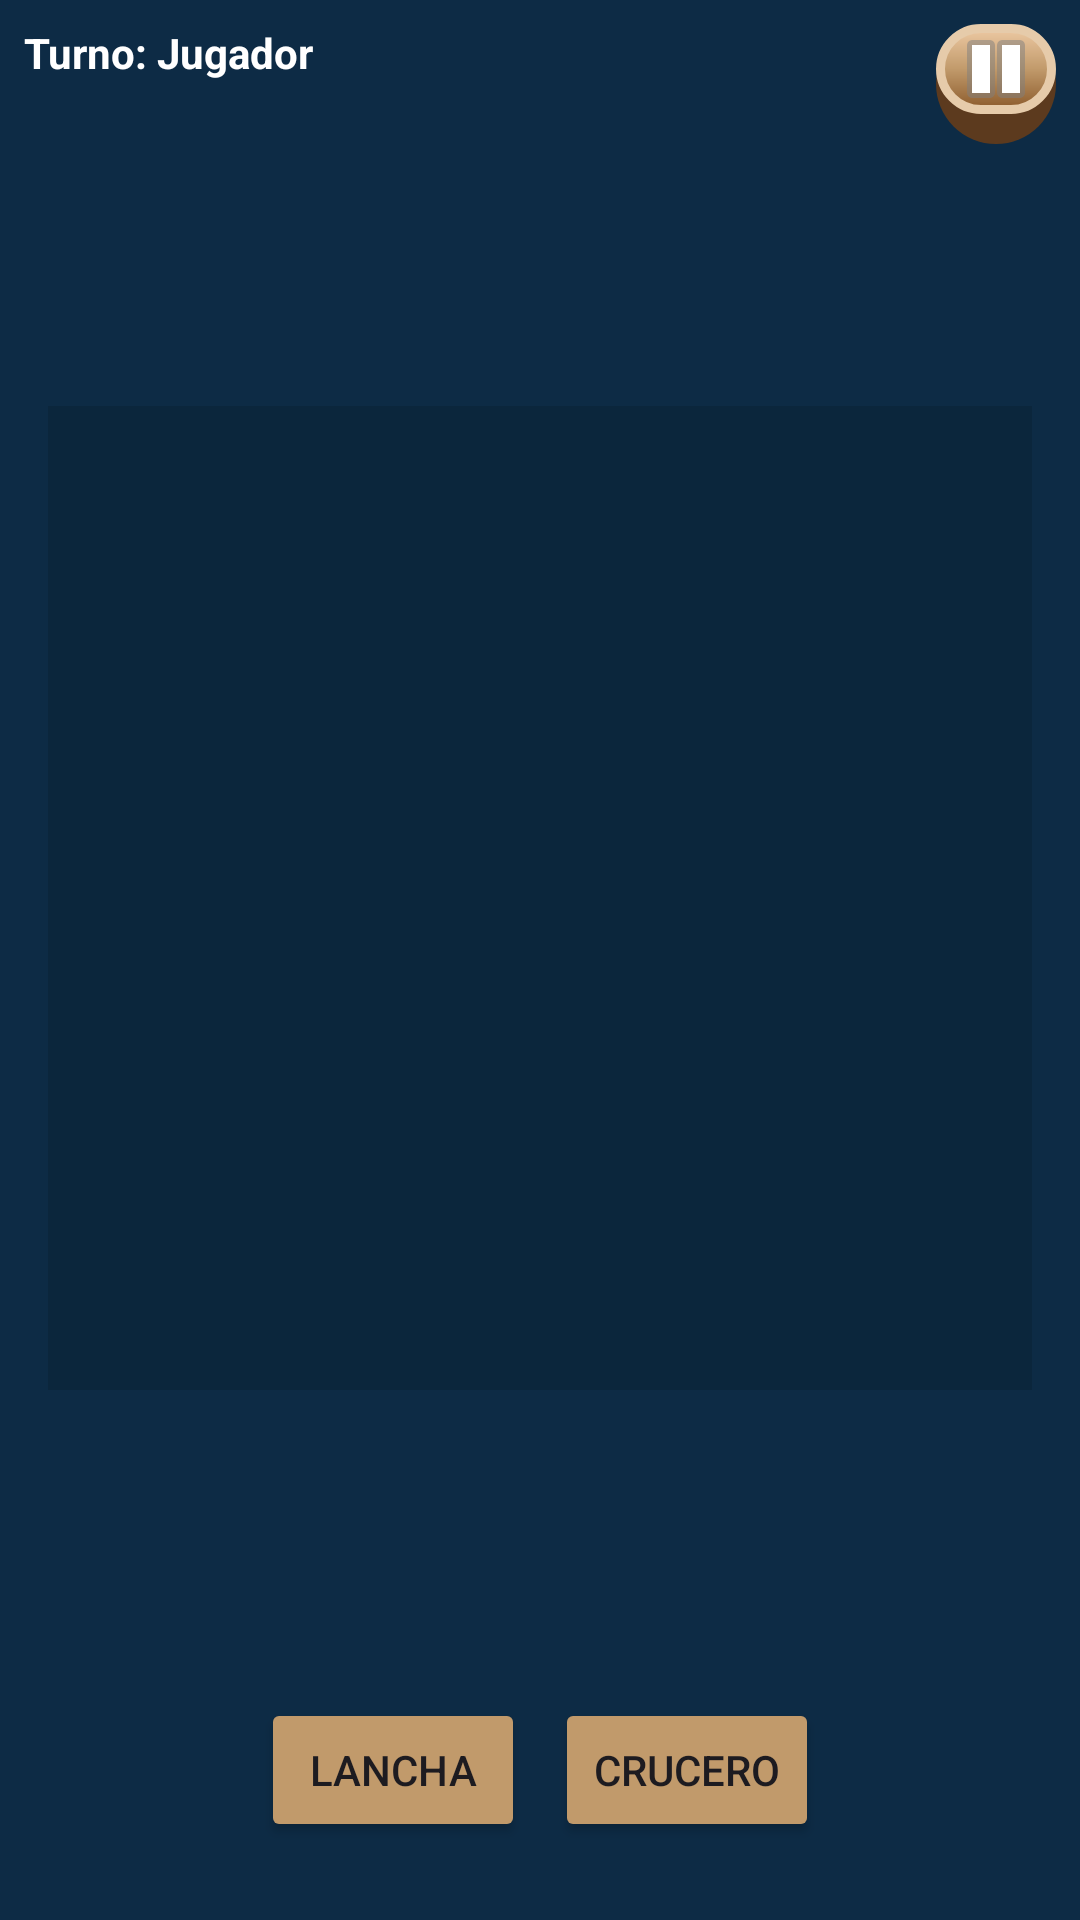

Icon click points for this 1080x1920 phone screenshot, format [x,y]:
pause: [996,84]
